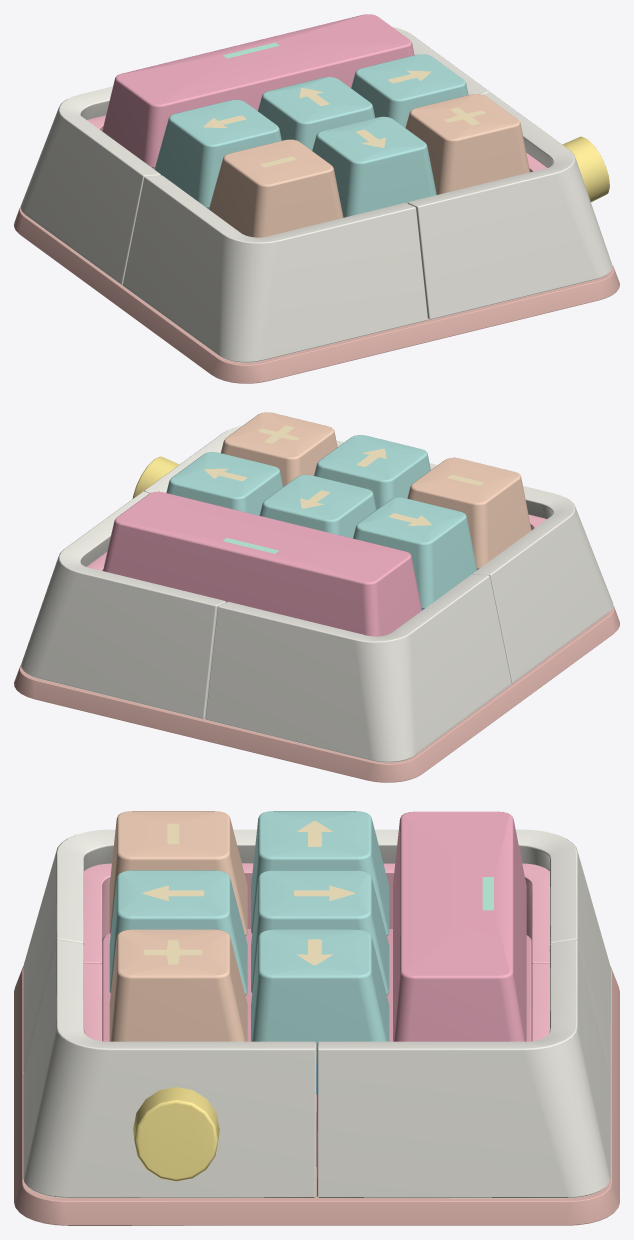
File: level_188.fbx
The picture shows the model from 3 angles, top to bottom: view 1: azimuth 30°, elevation 25°; view 2: azimuth 150°, elevation 25°; view 3: azimuth 270°, elevation 25°; orthographic projection. The views are drawn at different scales.
Parts seen in each view (by area): view 1: Cube_L2_2.001, Cube_L2_3.001, Cube_L1_8.001, Cube_L2_1.001, Cube_L1.002, Cube_L1_4.001, Cube_L1_3.001, Cube_L1_2.001, Cube_L1_5.001, Cube_L1_6.001, Cube_L1_7.001, Cube_L1_1.001 (+1 smaller); view 2: Cube_L2_1.001, Cube_L1_8.001, Cube_L2.002, Cube_L2_2.001, Cube_L1.002, Cube_L1_5.001, Cube_L1_4.001, Cube_L1_3.001, Cube_L1_2.001, Cube_L1_6.001, Cube_L1_7.001, Cube_L2_3.001 (+1 smaller); view 3: Cube_L2.002, Cube_L2_3.001, Cube_L1_8.001, Cube_L1.002, Cube_L1_7.001, Cube_L1_2.001, Cube_L1_4.001, Cube_L1_5.001, Cube_L1_3.001, Cube_L1_6.001, Cube_L2_1.001, Cube_L2_2.001 (+6 smaller).
Boxes of the visible parts, x1,y1,x2,y2 form: Cube_L2_2.001: (122, 175, 427, 362); Cube_L2_3.001: (408, 92, 612, 319); Cube_L1_8.001: (102, 14, 414, 168); Cube_L2_1.001: (21, 86, 160, 285); Cube_L1.002: (14, 206, 619, 383); Cube_L1_4.001: (209, 139, 343, 237); Cube_L1_3.001: (312, 116, 436, 217); Cube_L1_2.001: (405, 94, 529, 194); Cube_L1_5.001: (154, 99, 281, 208); Cube_L1_6.001: (258, 77, 375, 150); Cube_L1_7.001: (351, 54, 468, 127); Cube_L1_1.001: (562, 136, 609, 202); Cube_L2_1.001: (205, 574, 511, 762); Cube_L1_8.001: (103, 491, 421, 636); Cube_L2.002: (21, 491, 225, 718); Cube_L2_2.001: (429, 463, 613, 683); Cube_L1.002: (14, 606, 619, 782); Cube_L1_5.001: (353, 497, 476, 608); Cube_L1_4.001: (407, 457, 531, 569); Cube_L1_3.001: (314, 435, 430, 509); Cube_L1_2.001: (221, 412, 337, 486); Cube_L1_6.001: (259, 474, 376, 538); Cube_L1_7.001: (166, 452, 283, 515); Cube_L2_3.001: (144, 425, 343, 493); Cube_L2.002: (317, 940, 610, 1198); Cube_L2_3.001: (23, 940, 316, 1197); Cube_L1_8.001: (393, 811, 526, 1041); Cube_L1.002: (14, 966, 619, 1225); Cube_L1_7.001: (251, 929, 389, 1057); Cube_L1_2.001: (109, 929, 247, 1041); Cube_L1_4.001: (109, 811, 247, 936); Cube_L1_5.001: (251, 811, 389, 935); Cube_L1_3.001: (109, 870, 247, 995); Cube_L1_6.001: (251, 870, 389, 995); Cube_L2_1.001: (375, 829, 610, 1072); Cube_L2_2.001: (23, 829, 256, 1071).
Bounding box in the file's own units: 11.9 × 4.16 × 11.16.
